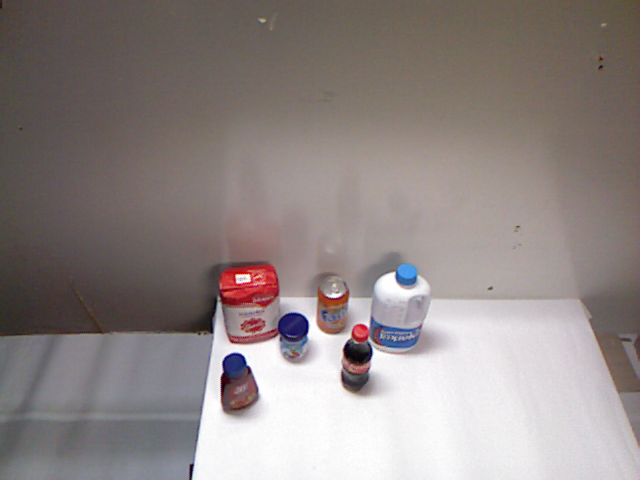aceite: (268, 210, 317, 319)
balsamo: (223, 232, 270, 316)
crema: (349, 318, 388, 371)
lata: (198, 292, 245, 357)
leche: (382, 250, 449, 335)
papas: (314, 222, 373, 329)
